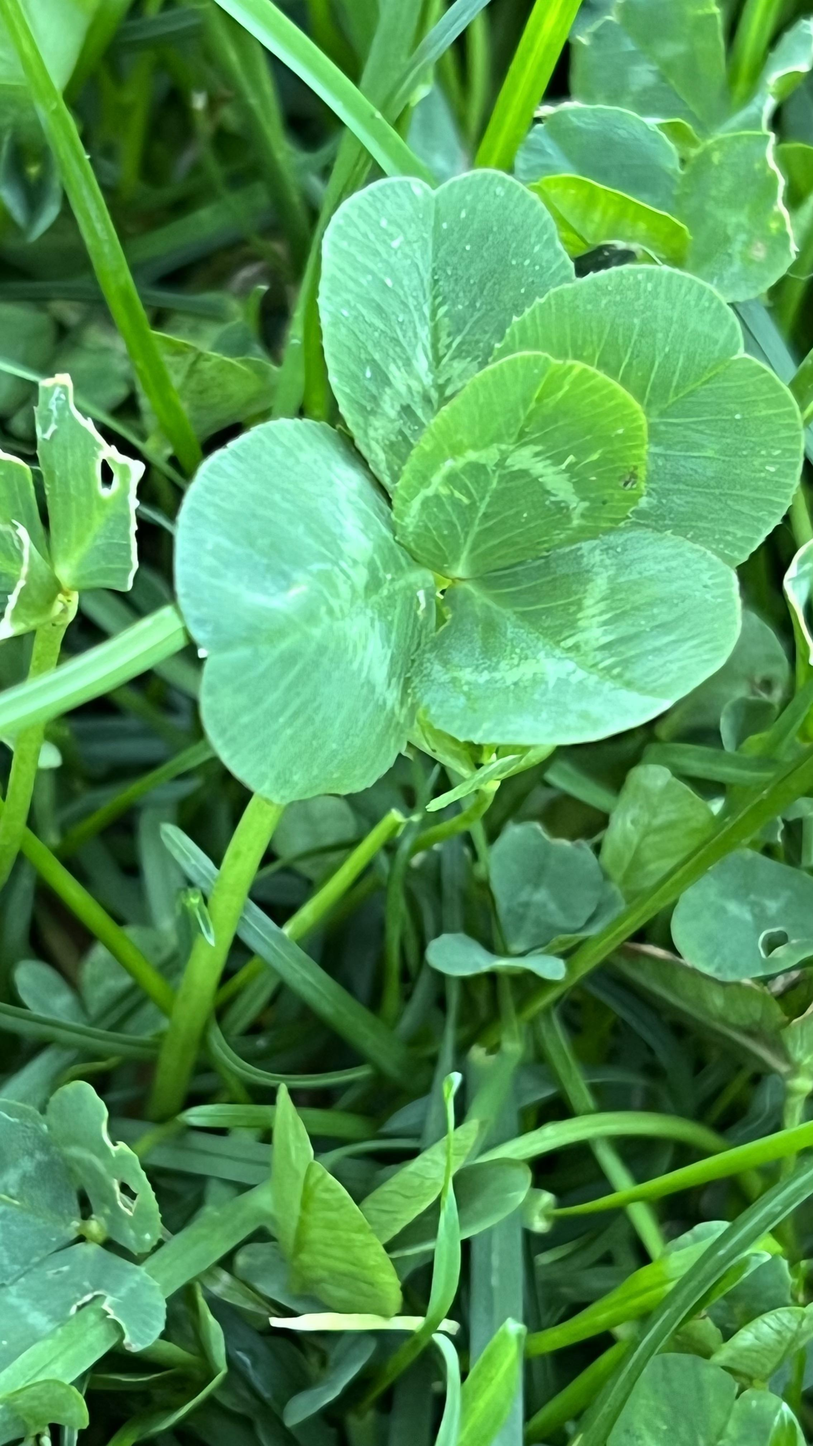5-Leaf-Clovers: (96, 13, 453, 1115)
